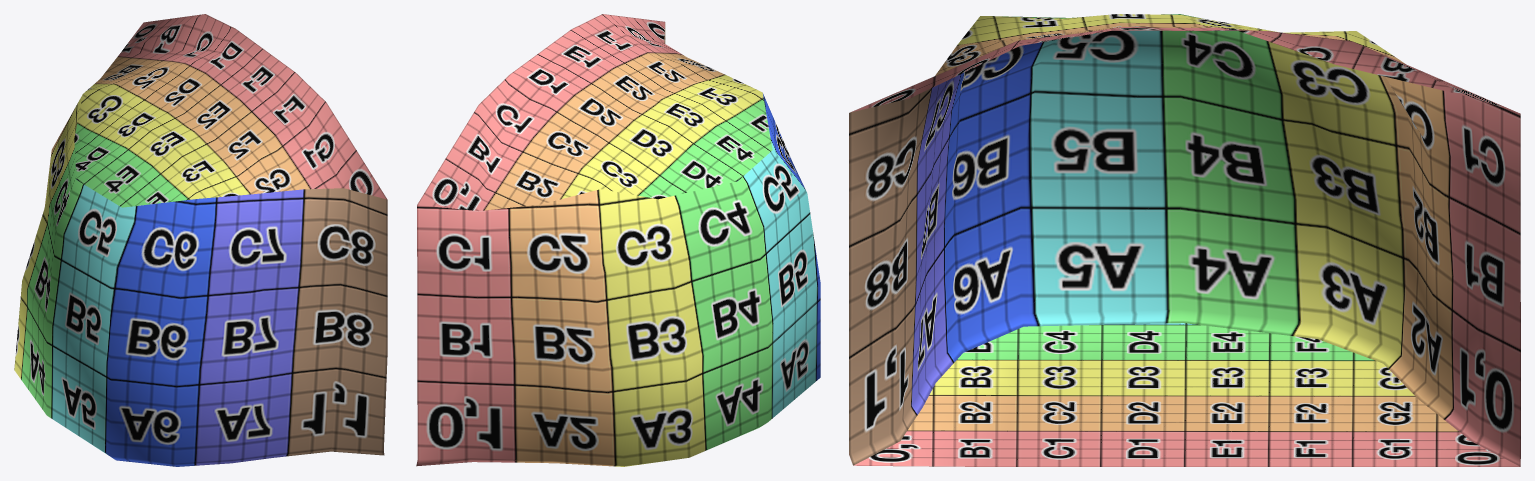
Rendered from grotte_startLeft.fbx.
3 views of the same model, side by side, from view 1: azimuth 30°, elevation 25°; view 2: azimuth 150°, elevation 25°; view 3: azimuth 270°, elevation 25° (orthographic). The views are drawn at different scales.
Parts seen in each view (by area): view 1: grotte_startLeft; view 2: grotte_startLeft; view 3: grotte_startLeft.
Boxes of the visible parts, box(x1,y1,x2,y2) form: grotte_startLeft: box(14, 14, 387, 466); grotte_startLeft: box(416, 14, 820, 466); grotte_startLeft: box(849, 14, 1520, 466).
Bounding box in the file's own units: 440 × 602 × 840.
1 material, 1 textured.
